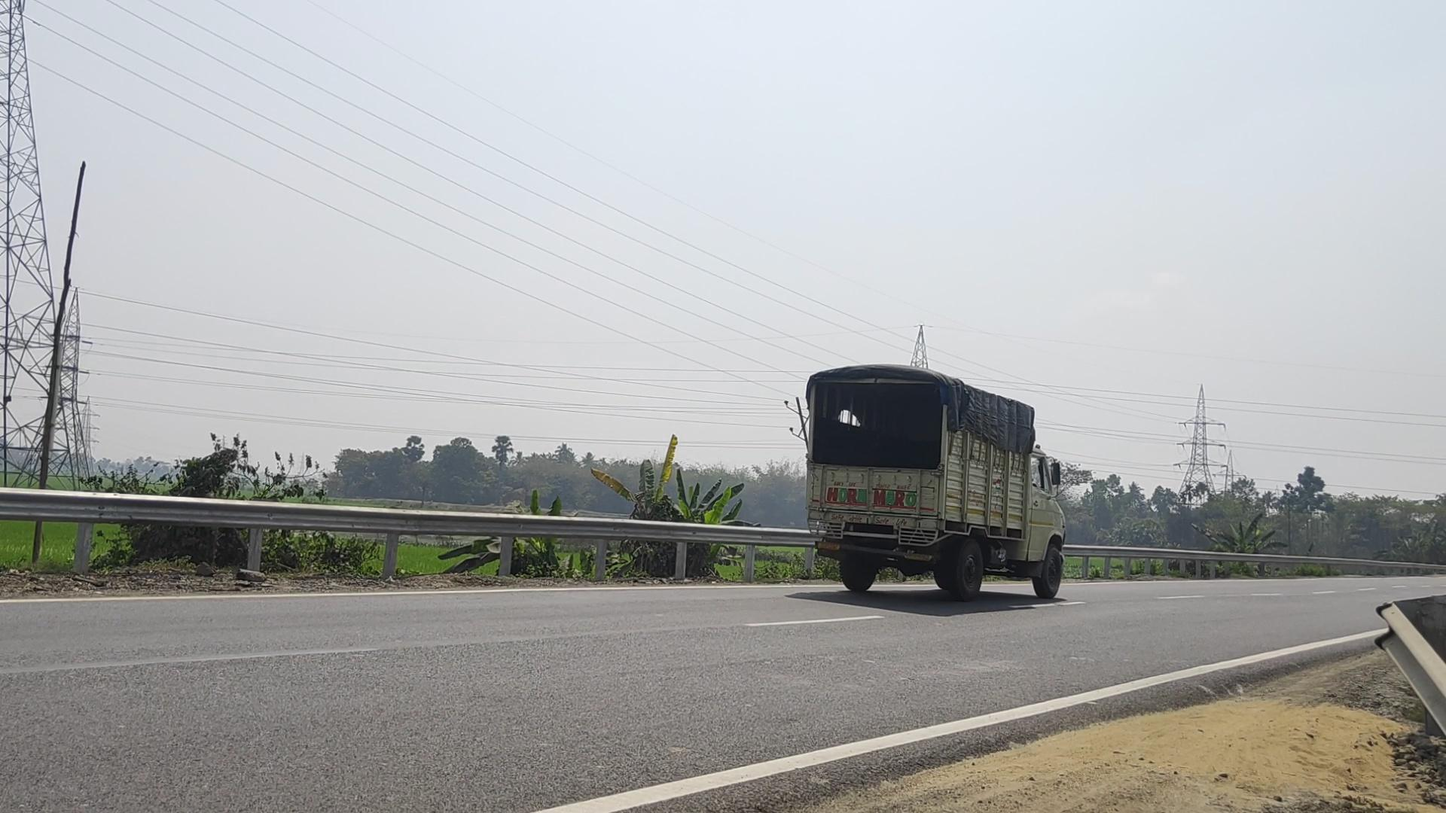truck: (804, 364, 1066, 602)
